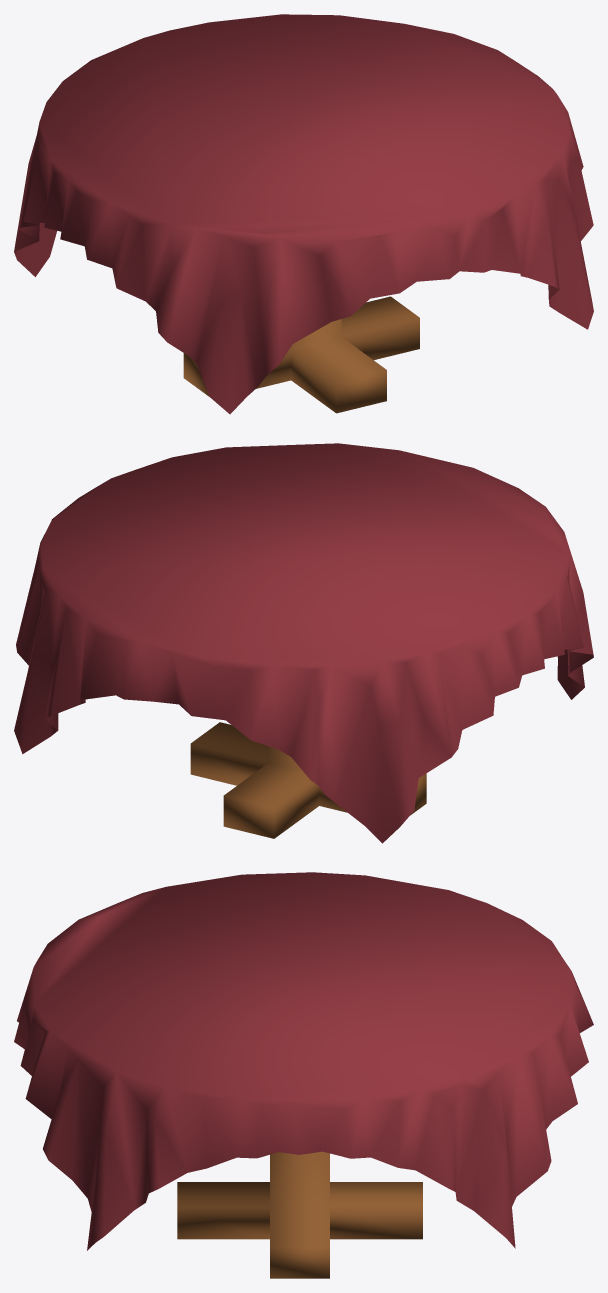
File: circletable.gltf
3 renders of one model, top to bottom at view 1: azimuth 30°, elevation 25°; view 2: azimuth 150°, elevation 25°; view 3: azimuth 270°, elevation 25°, orthographic. The views are drawn at different scales.
Visible parts, largest first — view 1: Plane.001; view 2: Plane.001; view 3: Plane.001.
Boxes of the visible parts, x1=… form: Plane.001: x1=14, y1=14, x2=593, y2=414; Plane.001: x1=14, y1=443, x2=593, y2=843; Plane.001: x1=14, y1=872, x2=593, y2=1278.
Size of the model in its own units: 7.79 by 3.63 by 7.87.
